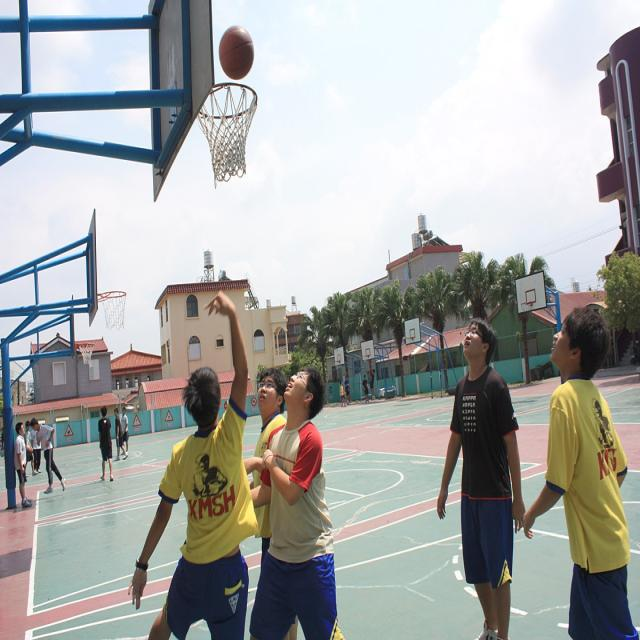body: (126, 287, 263, 639), (519, 303, 639, 639), (434, 313, 528, 639), (247, 365, 346, 640), (243, 368, 300, 639), (29, 418, 67, 495), (13, 421, 34, 508), (97, 405, 115, 482), (22, 419, 39, 477), (113, 406, 128, 462), (30, 428, 43, 475), (120, 406, 129, 457), (362, 374, 370, 404), (339, 379, 347, 408), (369, 368, 376, 401), (344, 374, 351, 402), (0, 425, 5, 457)
